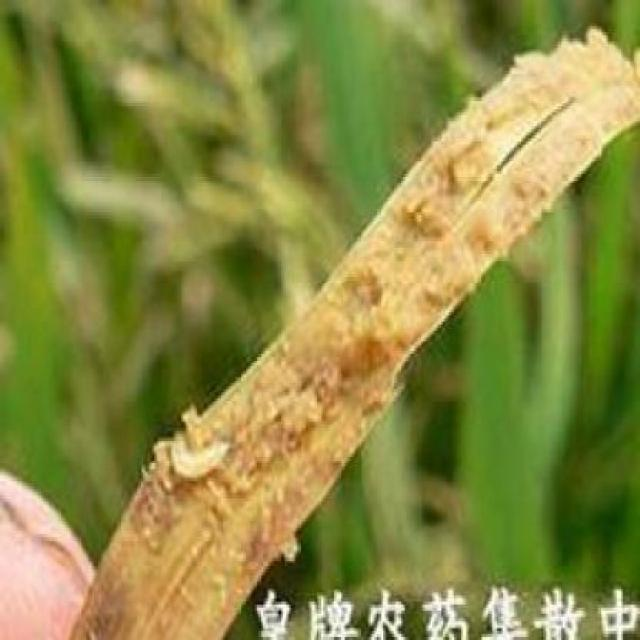whorl-maggot: (163, 434, 239, 489)
